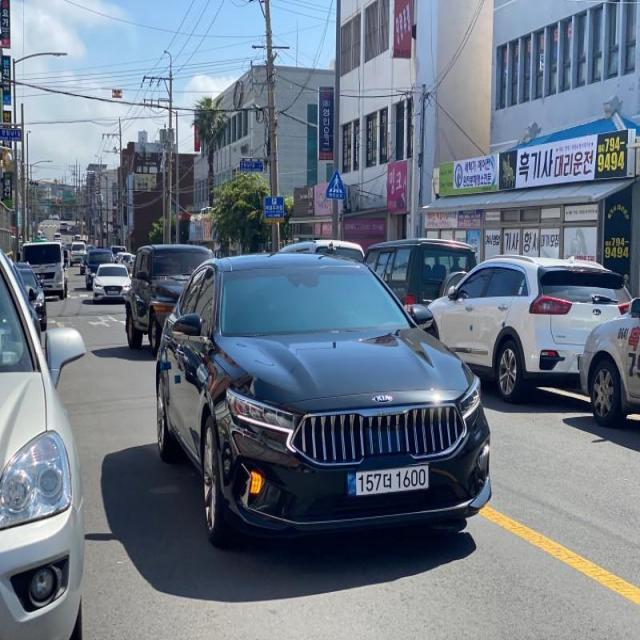car: (147, 242, 493, 557)
illegal_plate: (346, 466, 432, 498)
